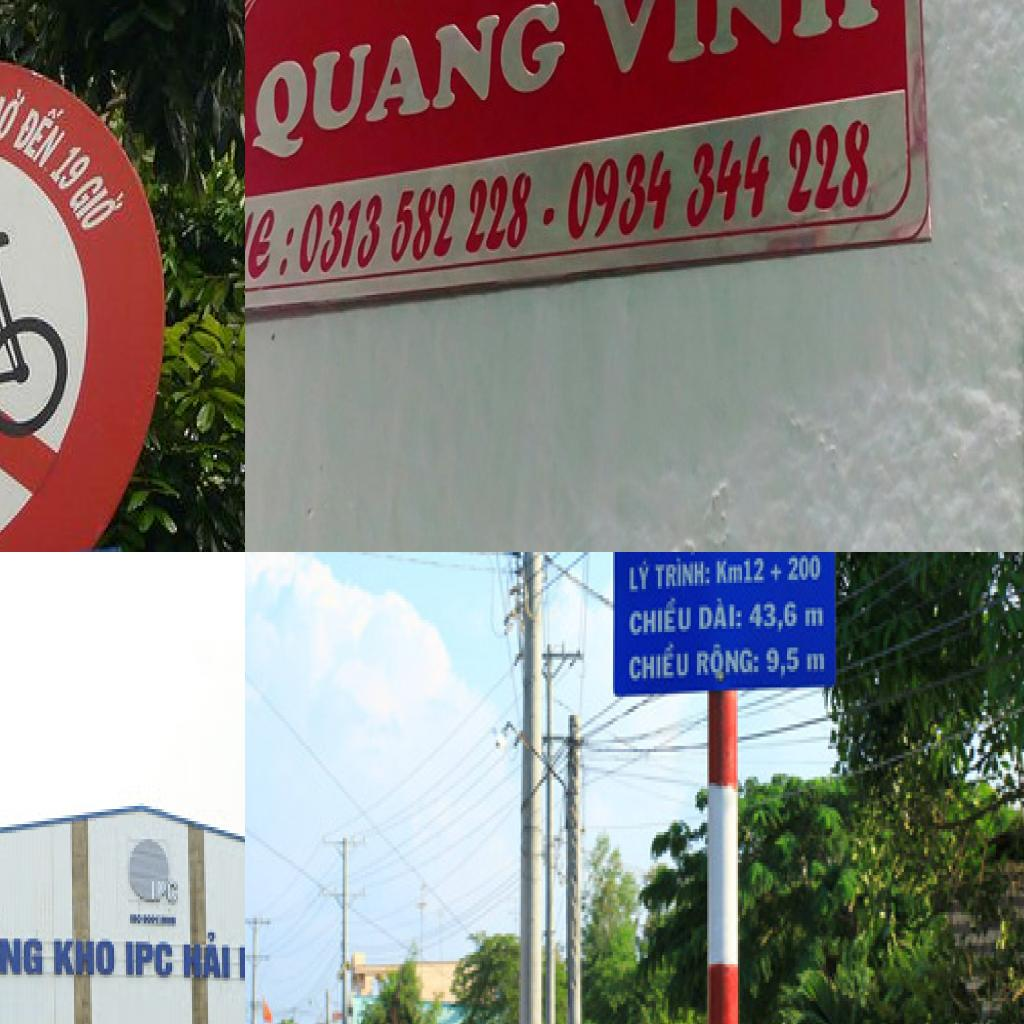text: (248, 0, 572, 170), (563, 113, 877, 247), (293, 167, 536, 281), (582, 0, 884, 85), (8, 90, 81, 174), (245, 197, 304, 298), (61, 162, 135, 242), (625, 596, 695, 642), (46, 138, 95, 203), (627, 642, 693, 688), (0, 917, 44, 980), (52, 938, 118, 980), (182, 930, 232, 984), (695, 642, 762, 682), (0, 72, 31, 145), (124, 938, 176, 980), (652, 555, 711, 592), (695, 595, 744, 638), (748, 598, 799, 635), (716, 555, 766, 589), (764, 644, 804, 682), (785, 552, 824, 586), (627, 555, 652, 595), (150, 878, 182, 908), (803, 604, 826, 636), (769, 561, 785, 583)
